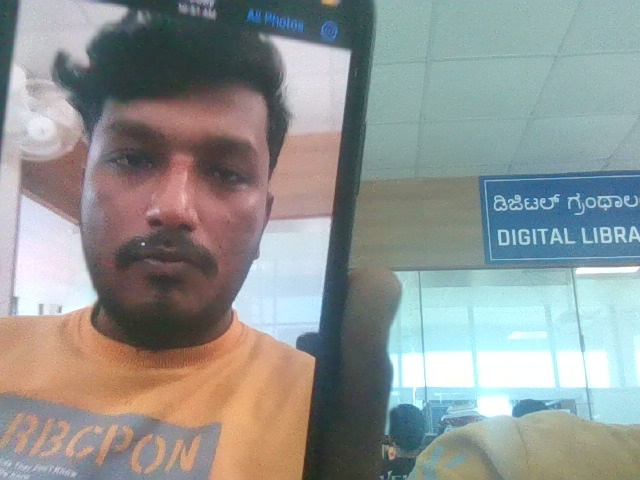fake: (49, 0, 305, 363)
